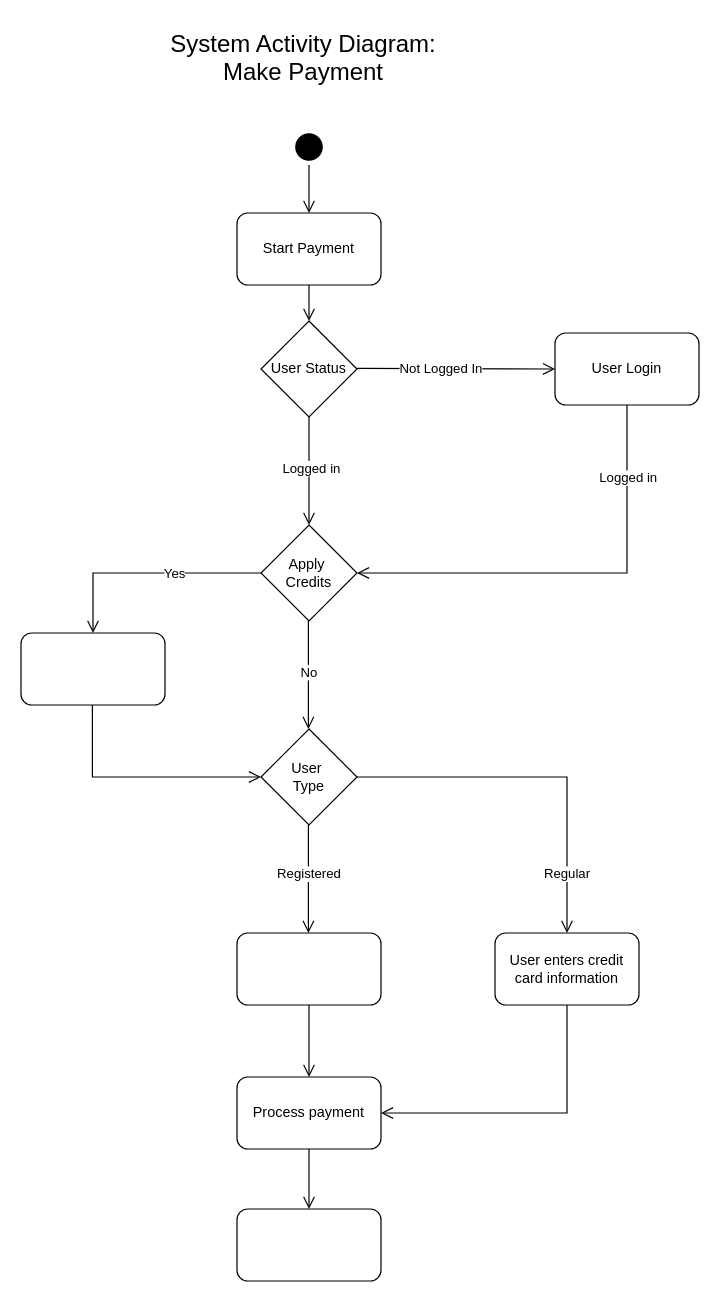
This 720x1302 diagram has some shape labels left out. The shapes that lost their labels are listed below. From the top down, each one's centre as x and y in pixels, then its label:
the point at 92,668: Subtract credit amount from total
the point at 308,968: Use existing credit card on file
the point at 308,1244: Email receipt
